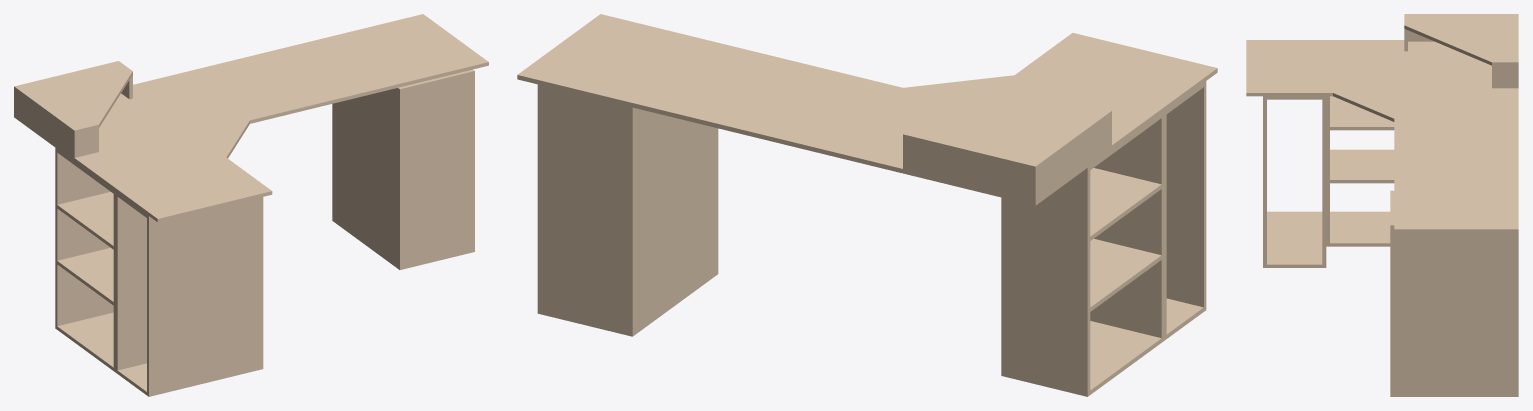
File: table2.fbx
The picture shows the model from 3 angles, left to right: view 1: azimuth 30°, elevation 25°; view 2: azimuth 150°, elevation 25°; view 3: azimuth 270°, elevation 25°; orthographic projection. The views are drawn at different scales.
Parts seen in each view (by area): view 1: Model; view 2: Model; view 3: Model.
Boxes of the visible parts, box(x1,y1,x2,y2) form: Model: box(14, 14, 488, 396); Model: box(517, 14, 1217, 396); Model: box(1246, 14, 1518, 396).
Size of the model in its own units: 13.83 by 6.84 by 8.41.
